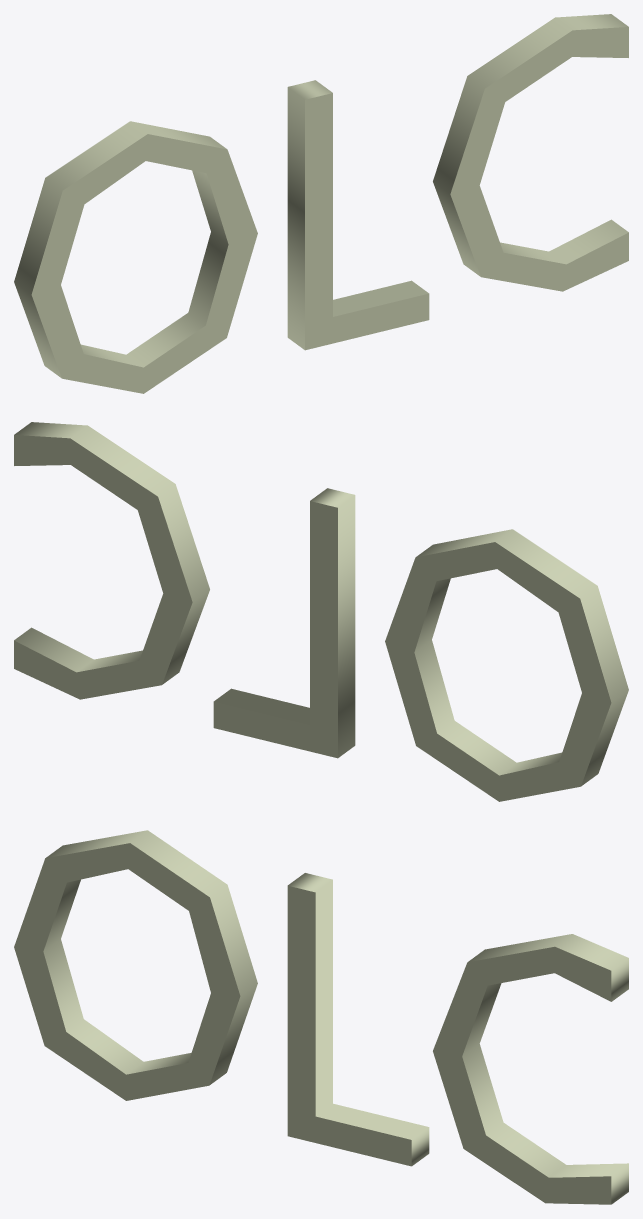
The model's file is OLC.obj.
3 views of the same model, one above another, from view 1: azimuth 30°, elevation 25°; view 2: azimuth 150°, elevation 25°; view 3: azimuth 330°, elevation 25° (orthographic).
Visible parts, largest first — view 1: text: OLC1; view 2: text: OLC1; view 3: text: OLC1.
Part boxes in pixels (bbox=[...]): text: OLC1: bbox=[14, 14, 628, 393]; text: OLC1: bbox=[14, 422, 628, 801]; text: OLC1: bbox=[14, 830, 628, 1204].
Size of the model in its own units: 3.93 by 1.63 by 0.2.
